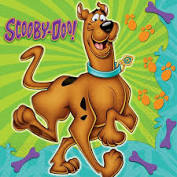scooby: (11, 1, 139, 176)
